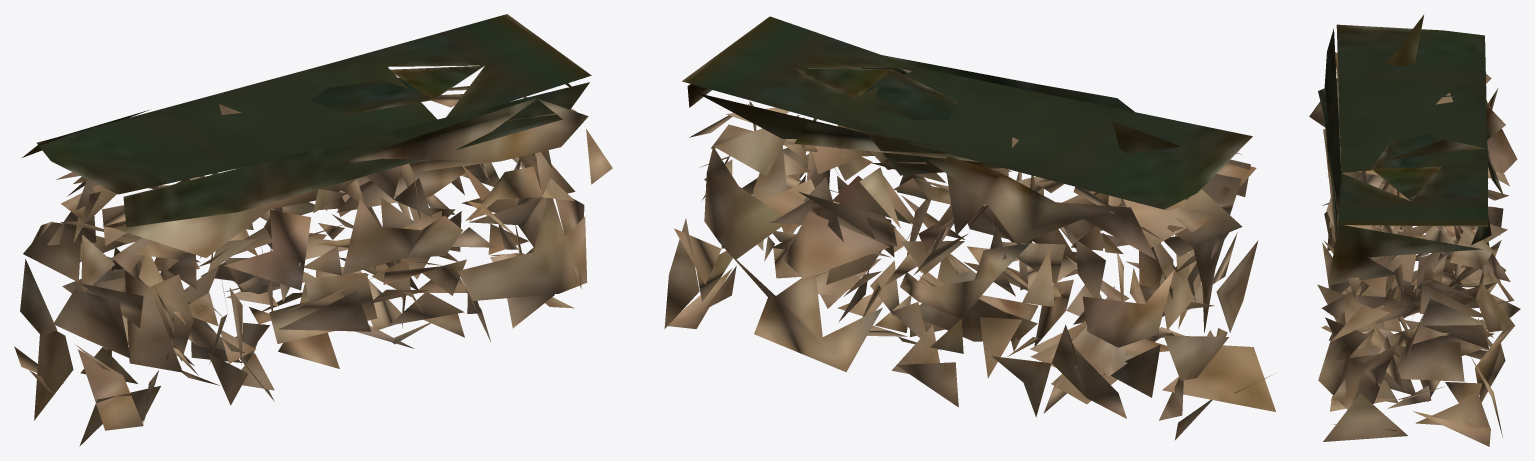
The model's file is wald_holzstapel_lo.glb.
The picture shows the model from 3 angles, left to right: view 1: azimuth 30°, elevation 25°; view 2: azimuth 150°, elevation 25°; view 3: azimuth 270°, elevation 25°; orthographic projection. The views are drawn at different scales.
Parts seen in each view (by area): view 1: Prop; view 2: Prop; view 3: Prop.
Part boxes in pixels (x1,y1,x2,y2): Prop: (14,14,612,446); Prop: (664,16,1275,439); Prop: (1309,14,1520,446).
Bounding box in the file's own units: 2.42 × 1.24 × 0.9001.
1 material, 1 textured.
